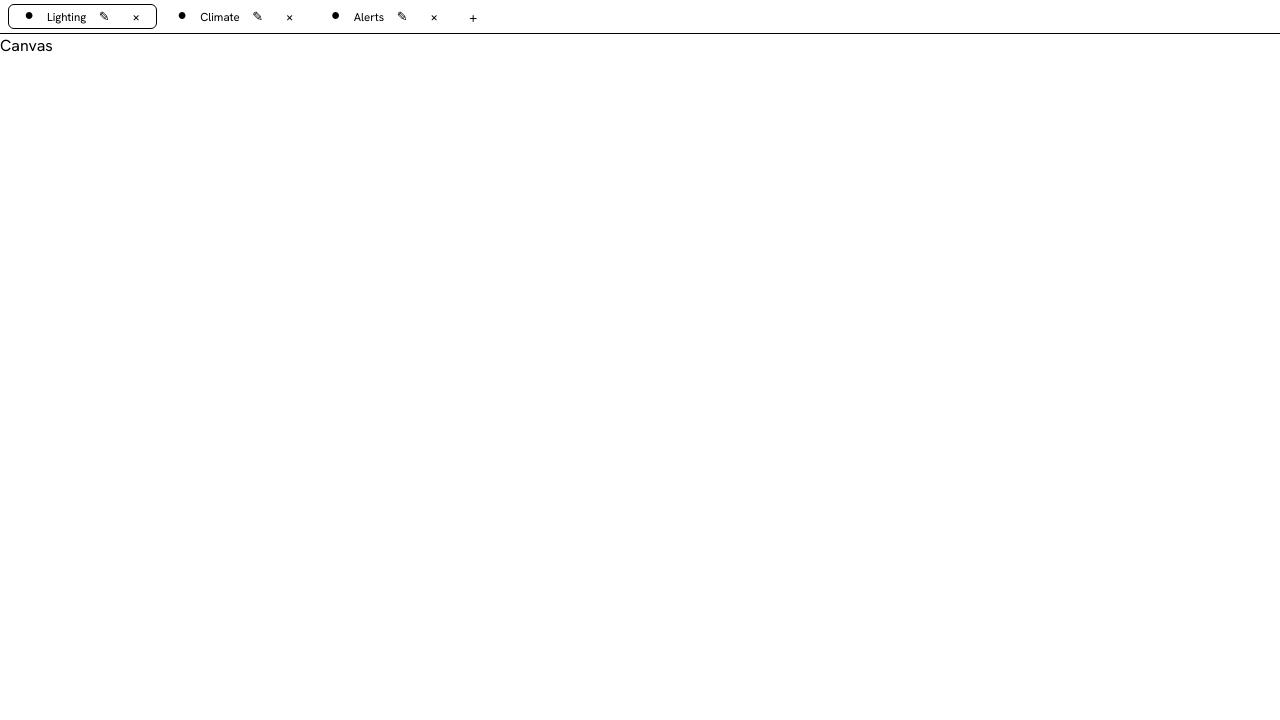
it: FlowTabs › exposes touch-friendly rename and guarded close actions
Click the button named "Rename Lighting" at (104, 16), box x1=92 y1=4 x2=116 y2=28
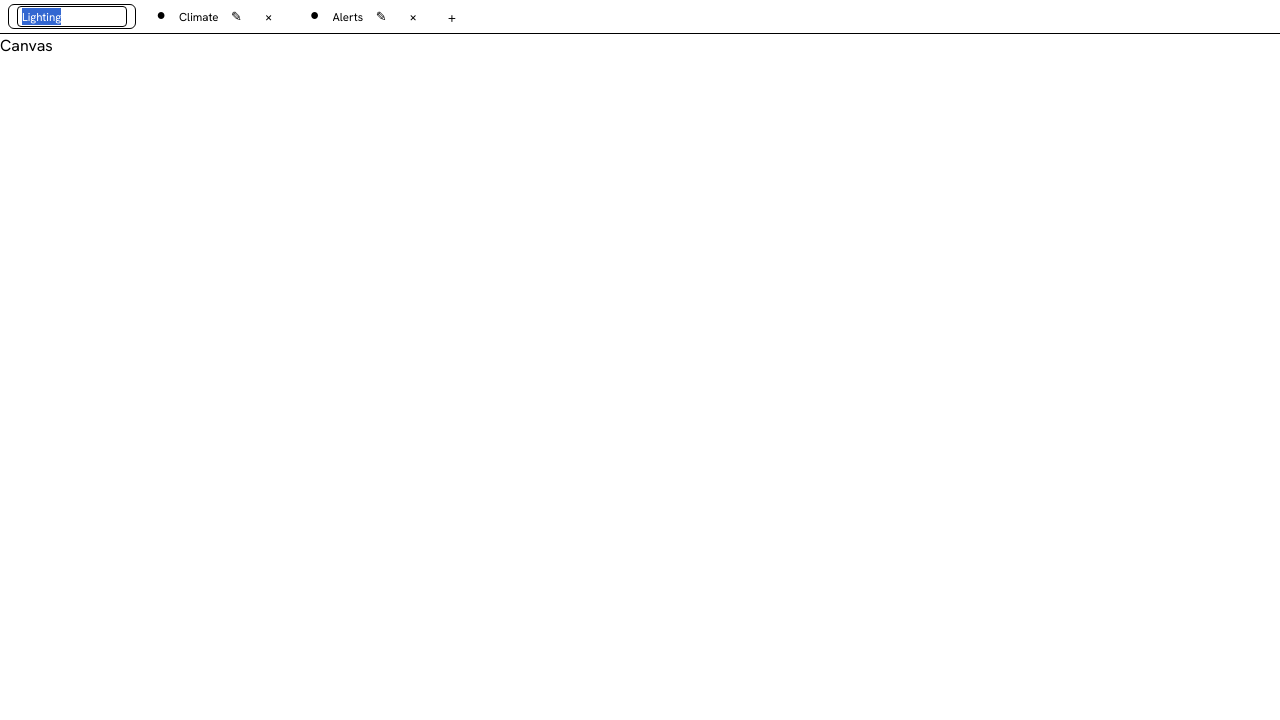
Now the field named "Rename Lighting" is shown
Press Escape in the field named "Rename Lighting", box x1=17 y1=6 x2=127 y2=27
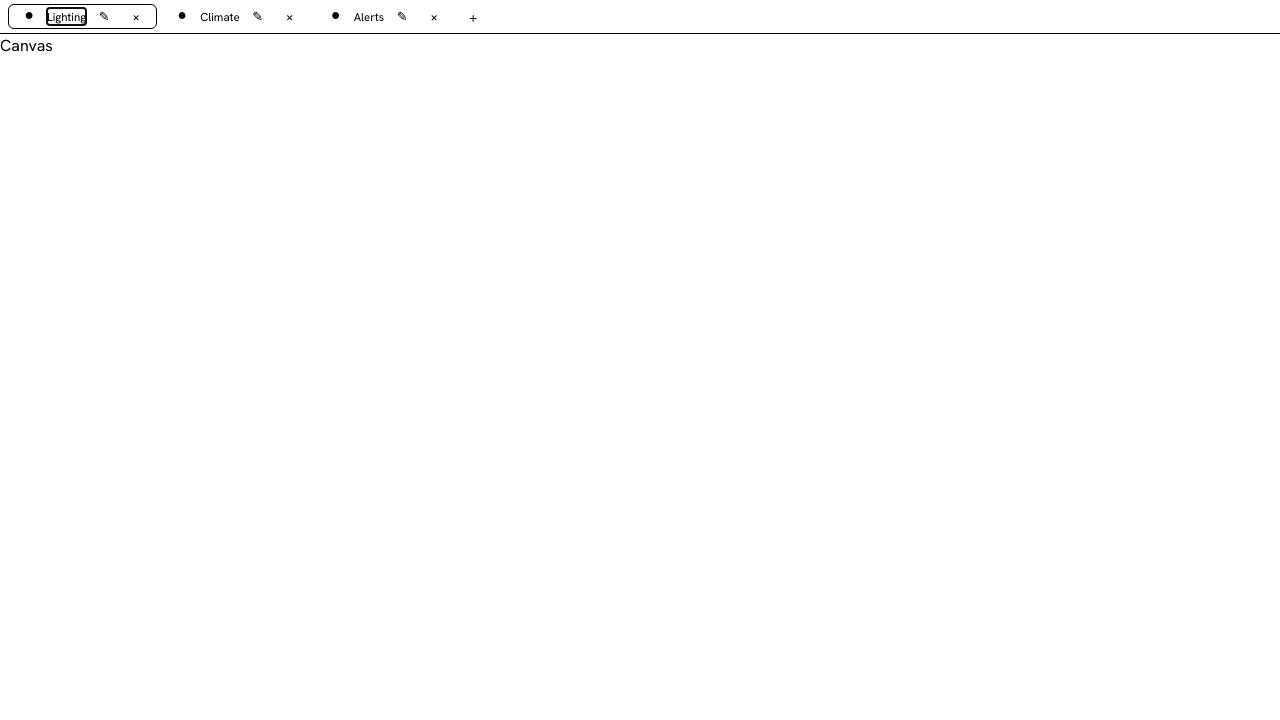
Click the button named "Close Lighting" at (136, 16), box x1=124 y1=4 x2=148 y2=28
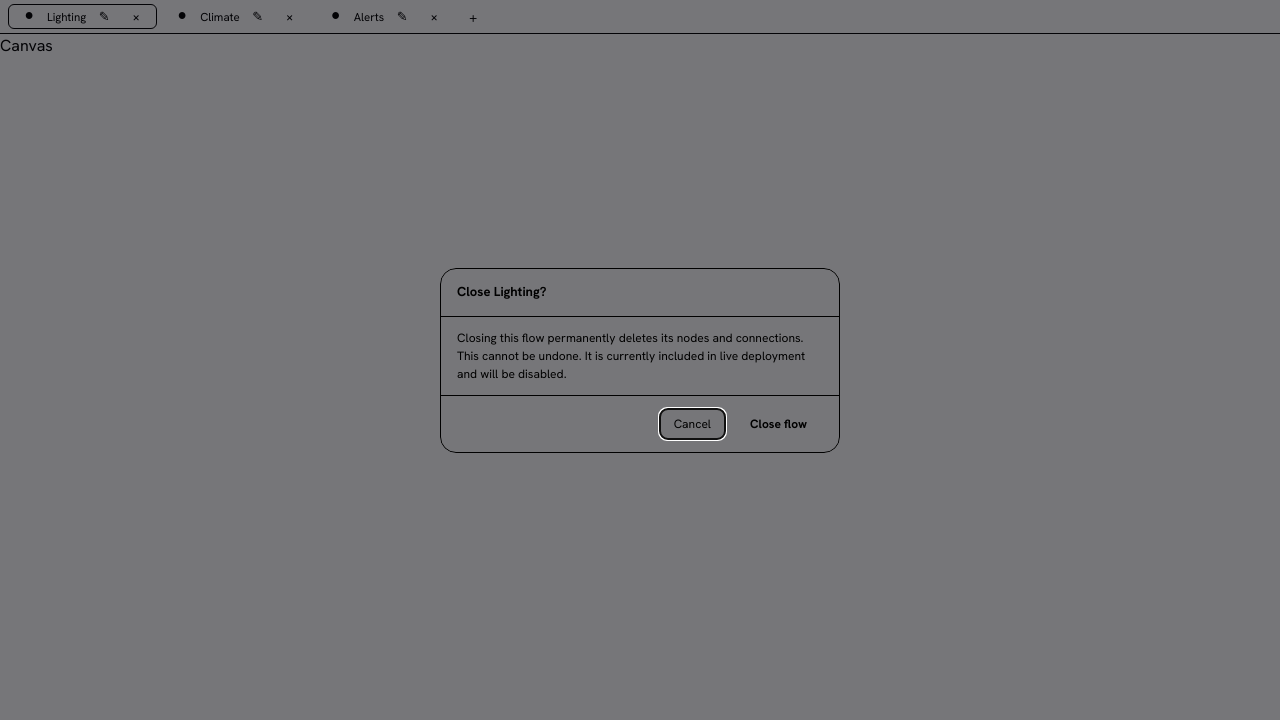
Now the dialog "Close Lighting?" shows "currently included in live deployment", box x1=457 y1=348 x2=805 y2=382
